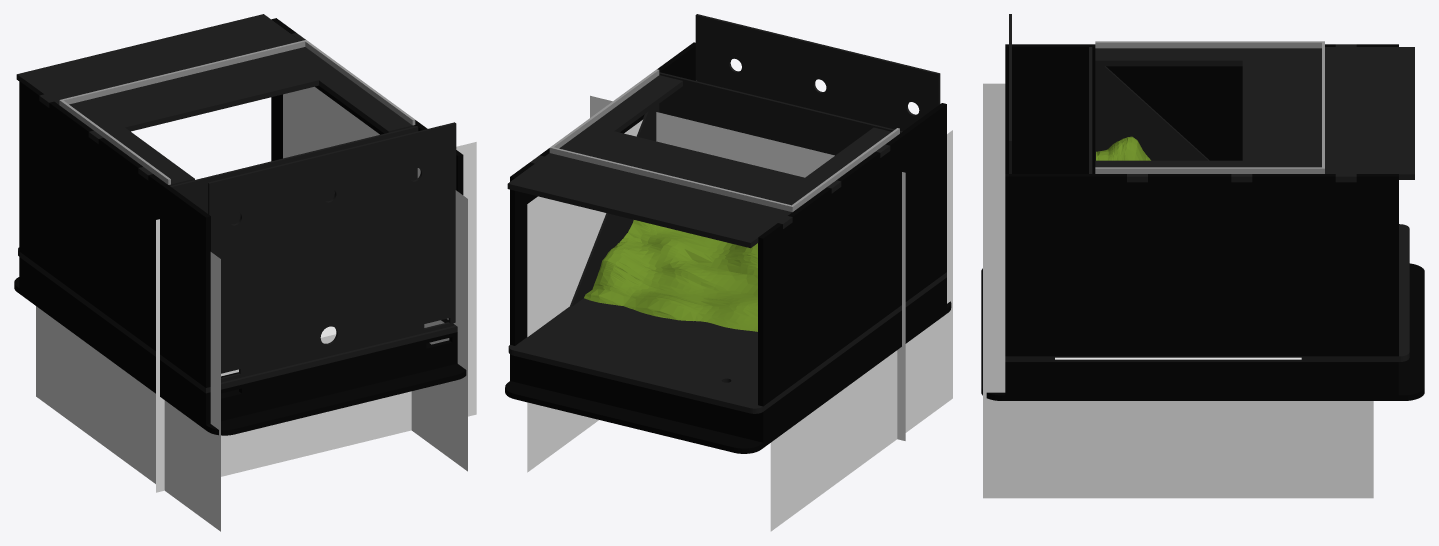
Rendered from hill.fbx.
3 renders of one model, left to right at view 1: azimuth 30°, elevation 25°; view 2: azimuth 150°, elevation 25°; view 3: azimuth 270°, elevation 25°, orthographic. The views are drawn at different scales.
Parts seen in each view (by area): view 1: backborad b (1), SIDEBOARD1, ipad holder, 物件_2, 物件_4, 物件_6, backbox, back (1), Body3, Body1, baseboard, midboard (1) (+4 smaller); view 2: SIDEBOARD1, ipad holder, baseboard, 物件_2, backborad b (1), 物件_1, 物件_6, midboard (1), 物件_4, backbox, front, Body3 (+7 smaller); view 3: SIDEBOARD2, 物件_6, ipad holder, backbox (1), Body2, backbox, SIDEBOARD1, Body1, sidebpard down right, baseboard, 物件_2, ipad holder rim (+3 smaller).
Part boxes in pixels (x1,y1,x2,y2): backborad b (1): (208, 122, 456, 382); SIDEBOARD1: (19, 79, 170, 358); ipad holder: (16, 14, 415, 185); 物件_2: (36, 252, 220, 531); 物件_4: (156, 142, 476, 492); 物件_6: (283, 86, 467, 471); backbox: (166, 187, 210, 387); back (1): (221, 332, 457, 421); Body3: (19, 257, 210, 424); Body1: (14, 277, 466, 435); baseboard: (18, 247, 457, 393); midboard (1): (170, 126, 418, 224); SIDEBOARD1: (758, 131, 907, 406); ipad holder: (507, 75, 891, 248); baseboard: (508, 272, 946, 413); 物件_2: (770, 130, 952, 531); backborad b (1): (695, 14, 940, 131); 物件_1: (584, 220, 757, 331); 物件_6: (527, 120, 642, 472); midboard (1): (659, 72, 902, 155); 物件_4: (590, 95, 905, 440); backbox: (903, 103, 946, 300); front: (515, 356, 758, 441); Body3: (758, 277, 946, 442); SIDEBOARD2: (1089, 174, 1398, 356); 物件_6: (983, 211, 1373, 498); ipad holder: (1095, 44, 1414, 182); backbox (1): (1005, 174, 1088, 356); Body2: (1005, 362, 1398, 395); backbox: (1005, 44, 1088, 173); SIDEBOARD1: (1089, 44, 1398, 173); Body1: (981, 263, 1424, 400); sidebpard down right: (1095, 66, 1209, 160); baseboard: (1005, 224, 1409, 361); 物件_2: (983, 83, 1005, 210); ipad holder rim: (1095, 41, 1324, 48).
Bounding box in the file's own units: 374 × 425 × 378.
